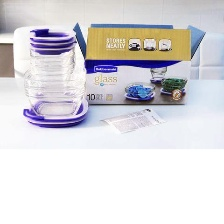book: (68, 15, 210, 109)
plastic_box: (19, 23, 89, 119)
